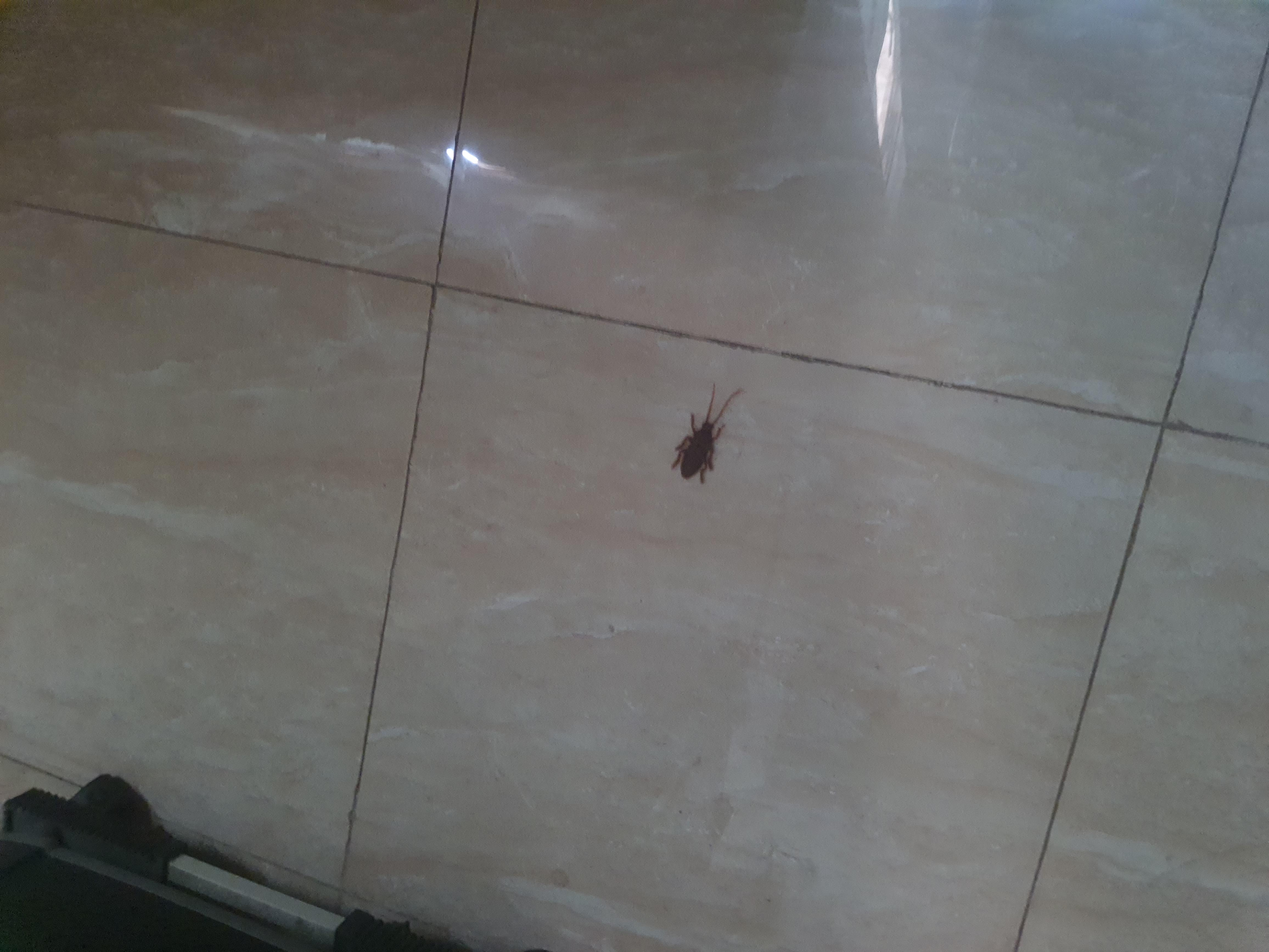cockroach: (594, 487, 769, 562)
